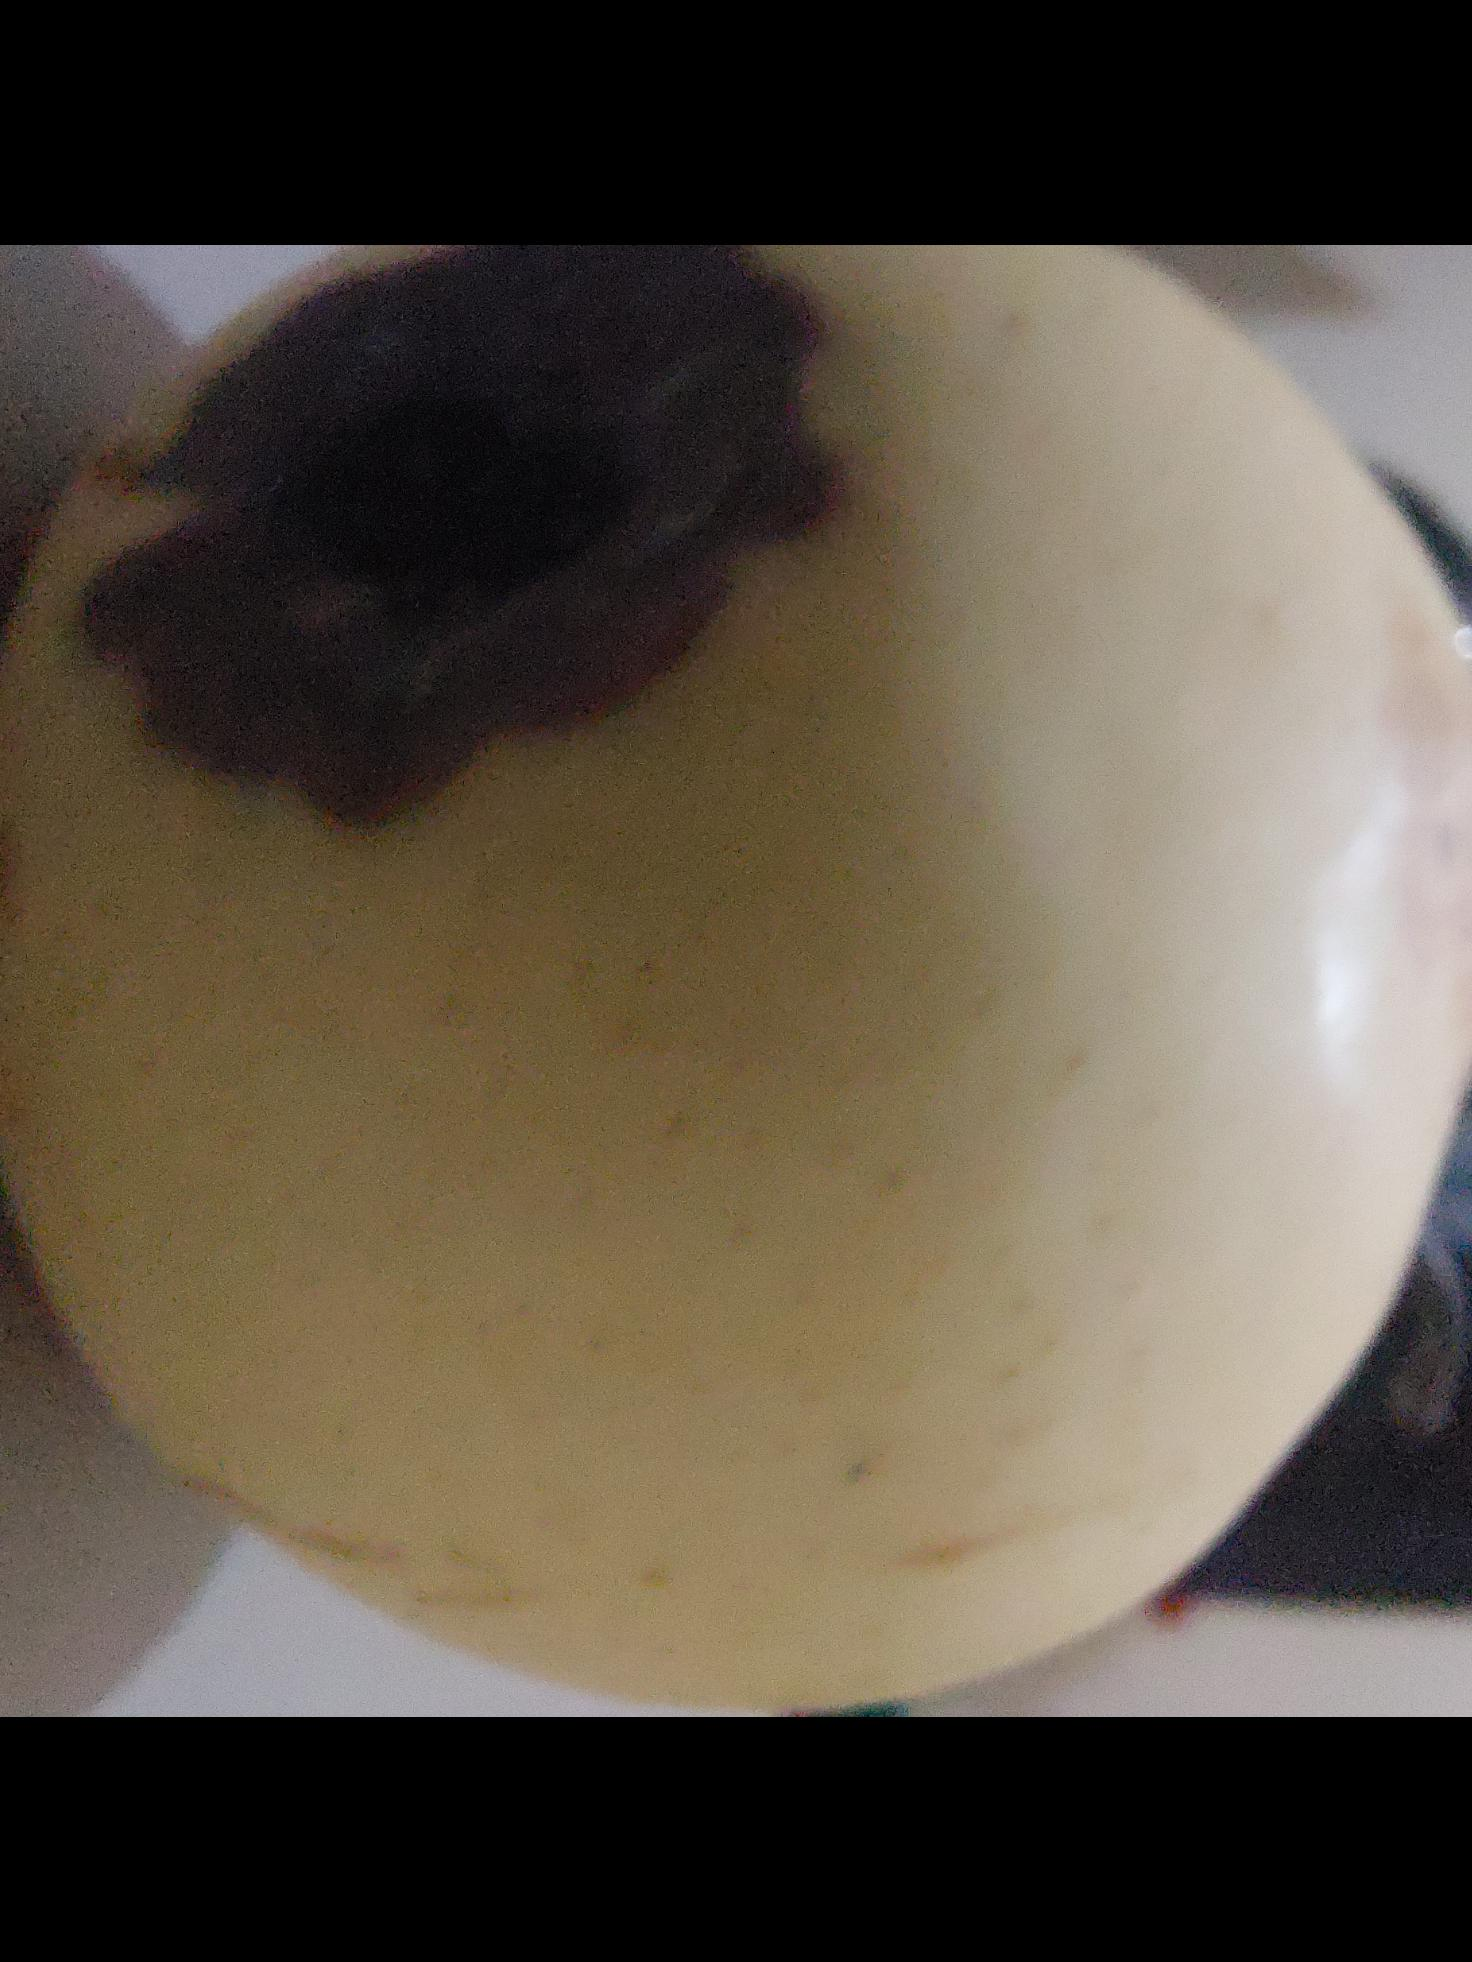Bad Pear: (0, 244, 1472, 1690)
